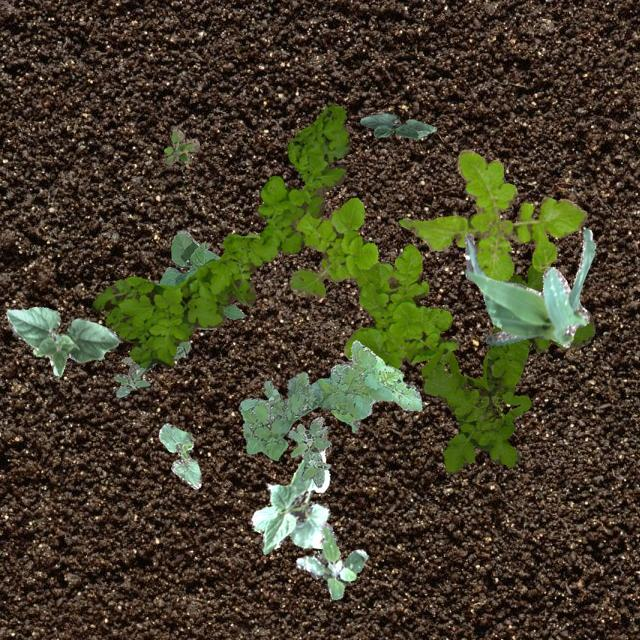crop: (464, 228, 594, 346), (152, 228, 244, 328), (250, 448, 330, 554), (5, 306, 120, 376), (157, 422, 200, 488), (358, 110, 436, 138)
weed: (90, 102, 350, 366), (420, 264, 594, 472), (288, 196, 458, 368), (398, 148, 586, 280), (238, 340, 420, 460), (294, 522, 368, 598), (112, 339, 190, 396), (286, 416, 331, 486), (162, 128, 198, 164)
